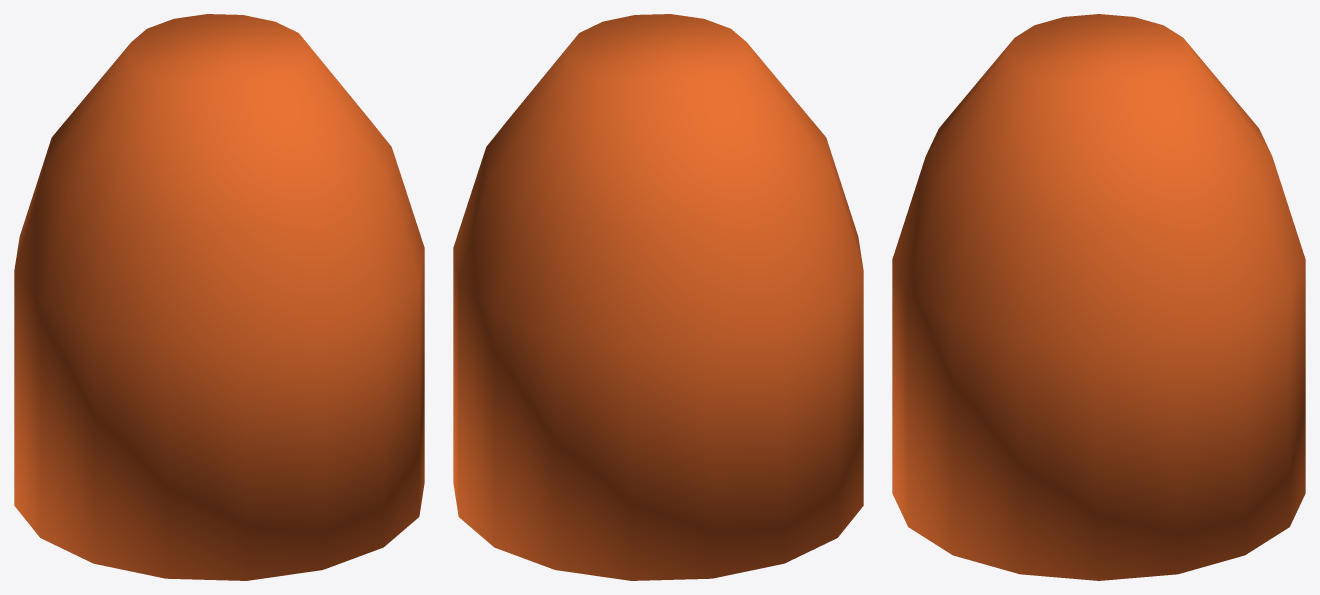
File: bala.fbx
The picture shows the model from 3 angles, left to right: view 1: azimuth 30°, elevation 25°; view 2: azimuth 150°, elevation 25°; view 3: azimuth 270°, elevation 25°; orthographic projection.
Parts seen in each view (by area): view 1: bala; view 2: bala; view 3: bala.
Part boxes in pixels (x1,y1,x2,y2): bala: (14,14,424,580); bala: (453,14,863,580); bala: (892,14,1305,580).
Bounding box in the file's own units: 200 × 236 × 200.
